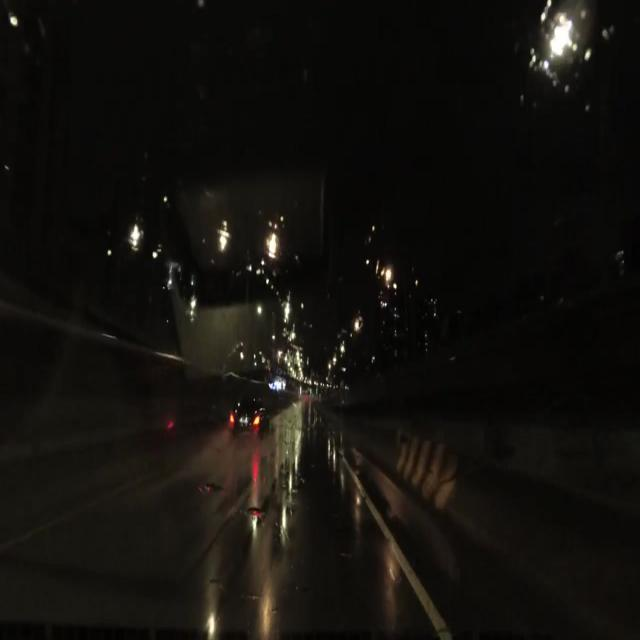Car: (227, 400, 272, 439)
